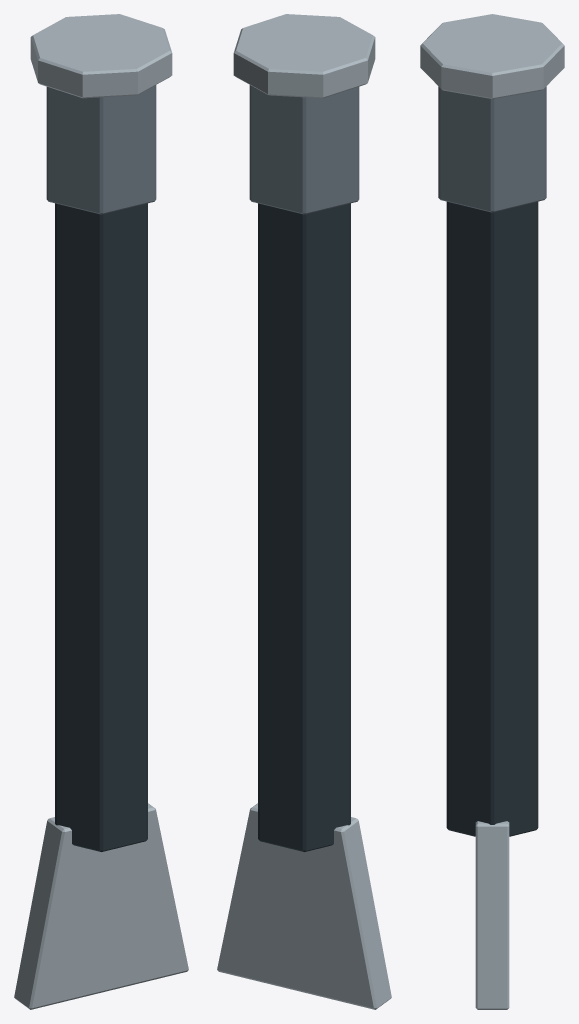
Rendered from b06_cold_chisel.glb.
3 views of the same model, side by side, from view 1: azimuth 30°, elevation 25°; view 2: azimuth 150°, elevation 25°; view 3: azimuth 270°, elevation 25° (orthographic).
Parts seen in each view (by area): view 1: b06_cold_chisel; view 2: b06_cold_chisel; view 3: b06_cold_chisel.
Boxes of the visible parts, x1,y1,x2,y2 form: b06_cold_chisel: (14,14,188,1009); b06_cold_chisel: (217,14,391,1009); b06_cold_chisel: (420,14,564,1009).
Size of the model in its own units: 0.0378 by 0.213 by 0.03.
